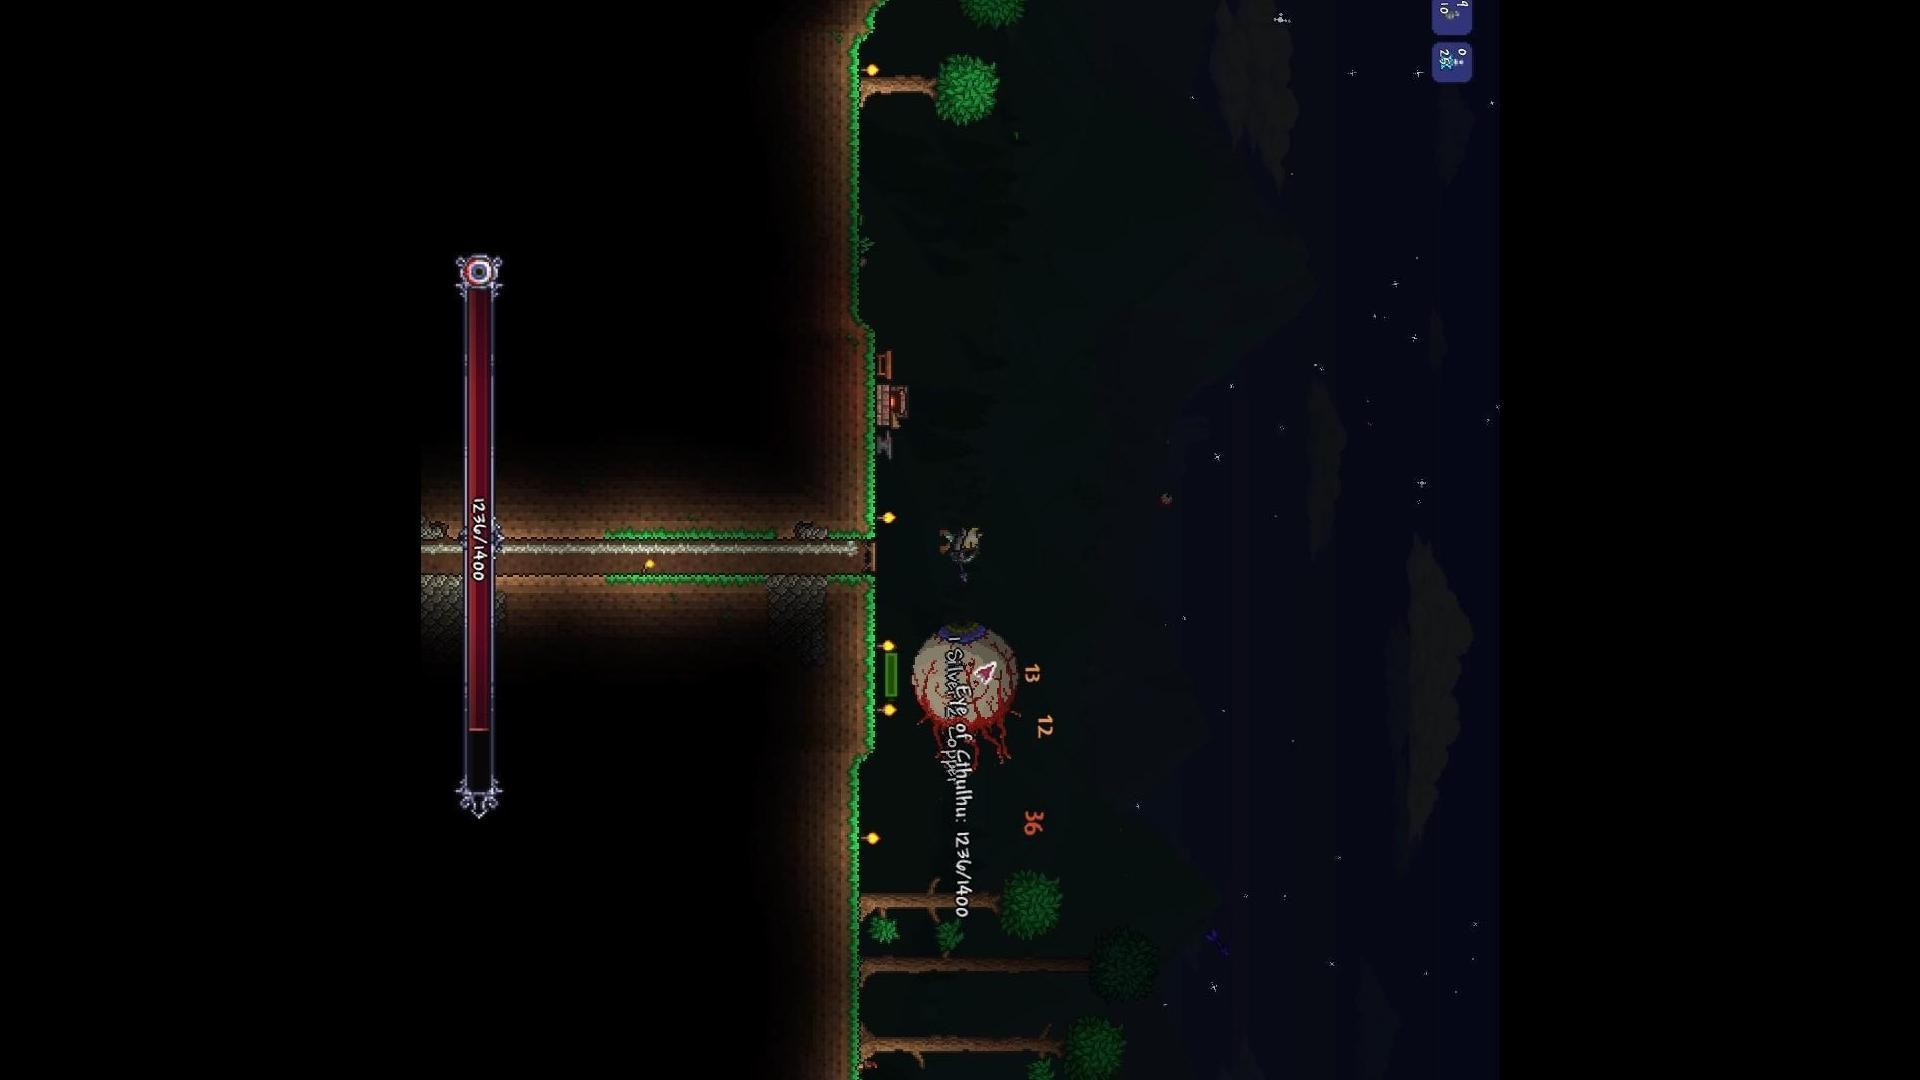anvil: (873, 427, 898, 462)
eyeC: (907, 607, 1030, 786)
furnace: (876, 382, 914, 431)
grenade: (1443, 9, 1461, 21)
platform: (864, 542, 882, 575)
recallP: (1436, 53, 1465, 74)
ropeT: (419, 541, 462, 559)
workbench: (876, 349, 899, 384)
